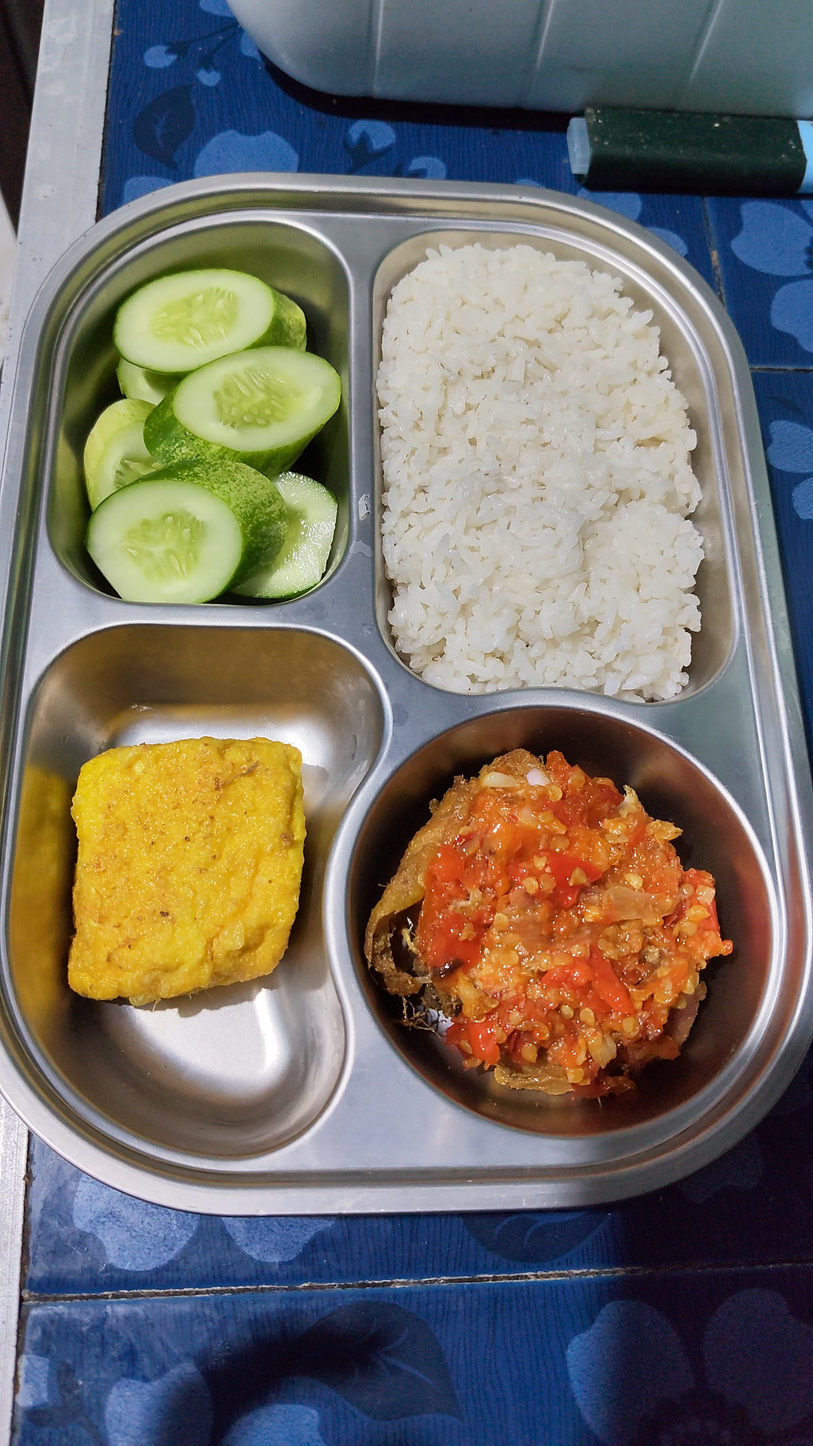buah_sayur_lainnya: (81, 269, 320, 616)
kacang_legume: (58, 755, 294, 988)
makanan_berpati: (412, 264, 702, 653)
